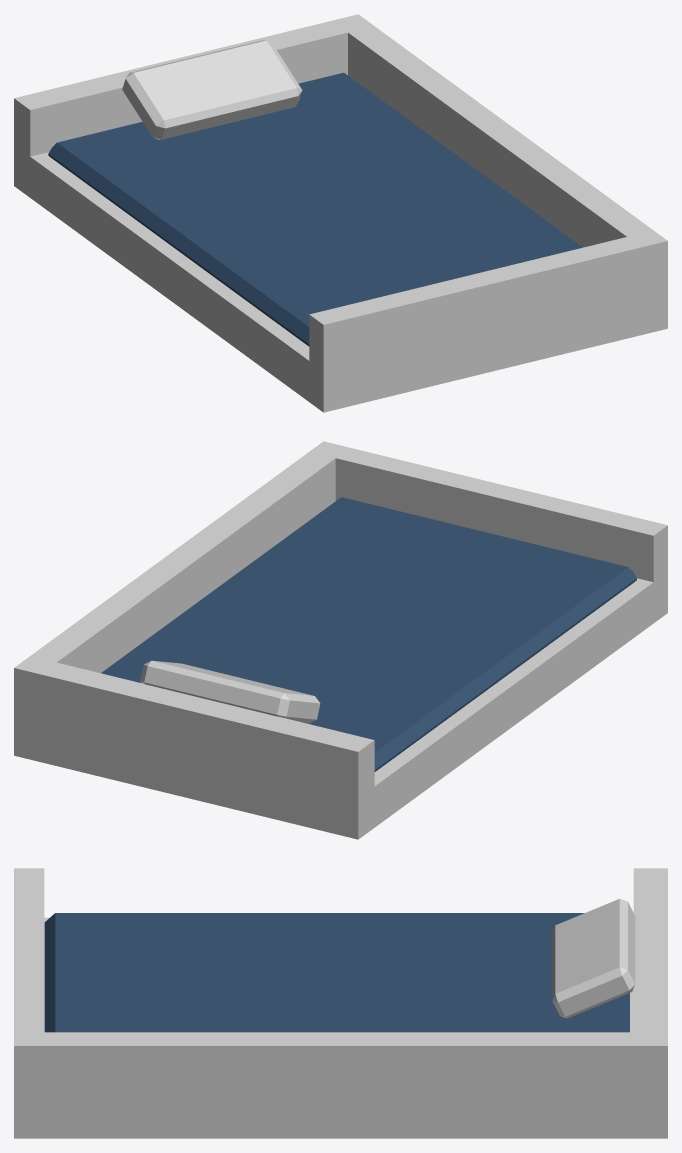
File: bed.fbx
The picture shows the model from 3 angles, top to bottom: view 1: azimuth 30°, elevation 25°; view 2: azimuth 150°, elevation 25°; view 3: azimuth 270°, elevation 25°; orthographic projection. The views are drawn at different scales.
Parts seen in each view (by area): view 1: Cube.006, Cube.007, Cube.008; view 2: Cube.006, Cube.007, Cube.008; view 3: Cube.006, Cube.007, Cube.008.
Part boxes in pixels (box(x1,y1,x2,y2)): Cube.006: box(14, 14, 667, 412); Cube.007: box(48, 72, 582, 346); Cube.008: box(122, 40, 302, 139); Cube.006: box(14, 441, 667, 839); Cube.007: box(101, 497, 636, 771); Cube.008: box(140, 660, 320, 723); Cube.006: box(14, 868, 667, 1138); Cube.007: box(44, 913, 629, 1032); Cube.008: box(552, 898, 635, 1018).
Bounding box in the file's own units: 4386 × 1294 × 6831.
